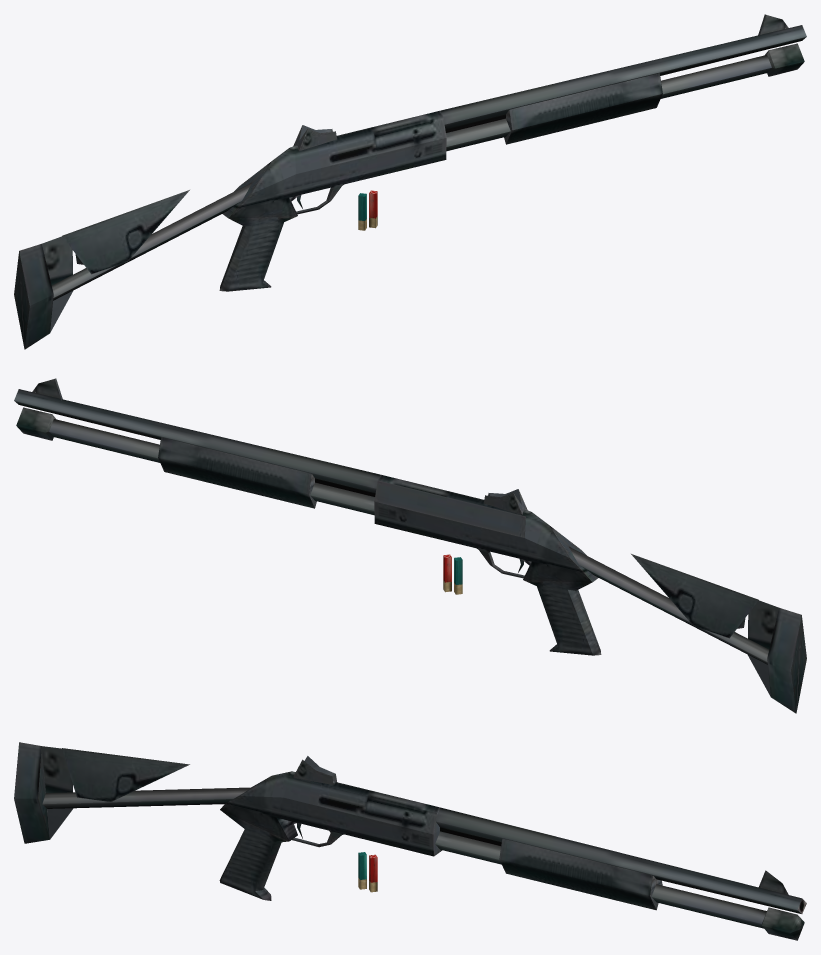
3 renders of one model, top to bottom at view 1: azimuth 30°, elevation 25°; view 2: azimuth 150°, elevation 25°; view 3: azimuth 330°, elevation 25°, orthographic.
Visible parts, largest first — view 1: TacticalShotgun; view 2: TacticalShotgun; view 3: TacticalShotgun.
Boxes of the visible parts, x1=… form: TacticalShotgun: x1=14, y1=14, x2=806, y2=349; TacticalShotgun: x1=14, y1=378, x2=806, y2=713; TacticalShotgun: x1=14, y1=742, x2=806, y2=940.
Size of the model in its own units: 10.61 by 2 by 0.3935.
5 materials, 5 textured.
